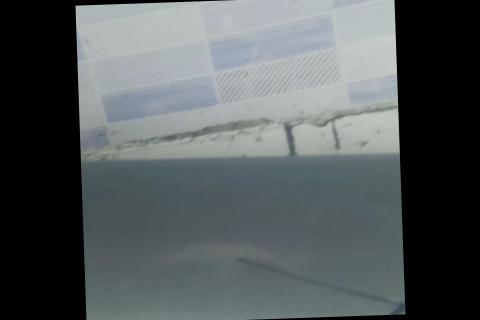keretakan: (231, 249, 404, 320)
